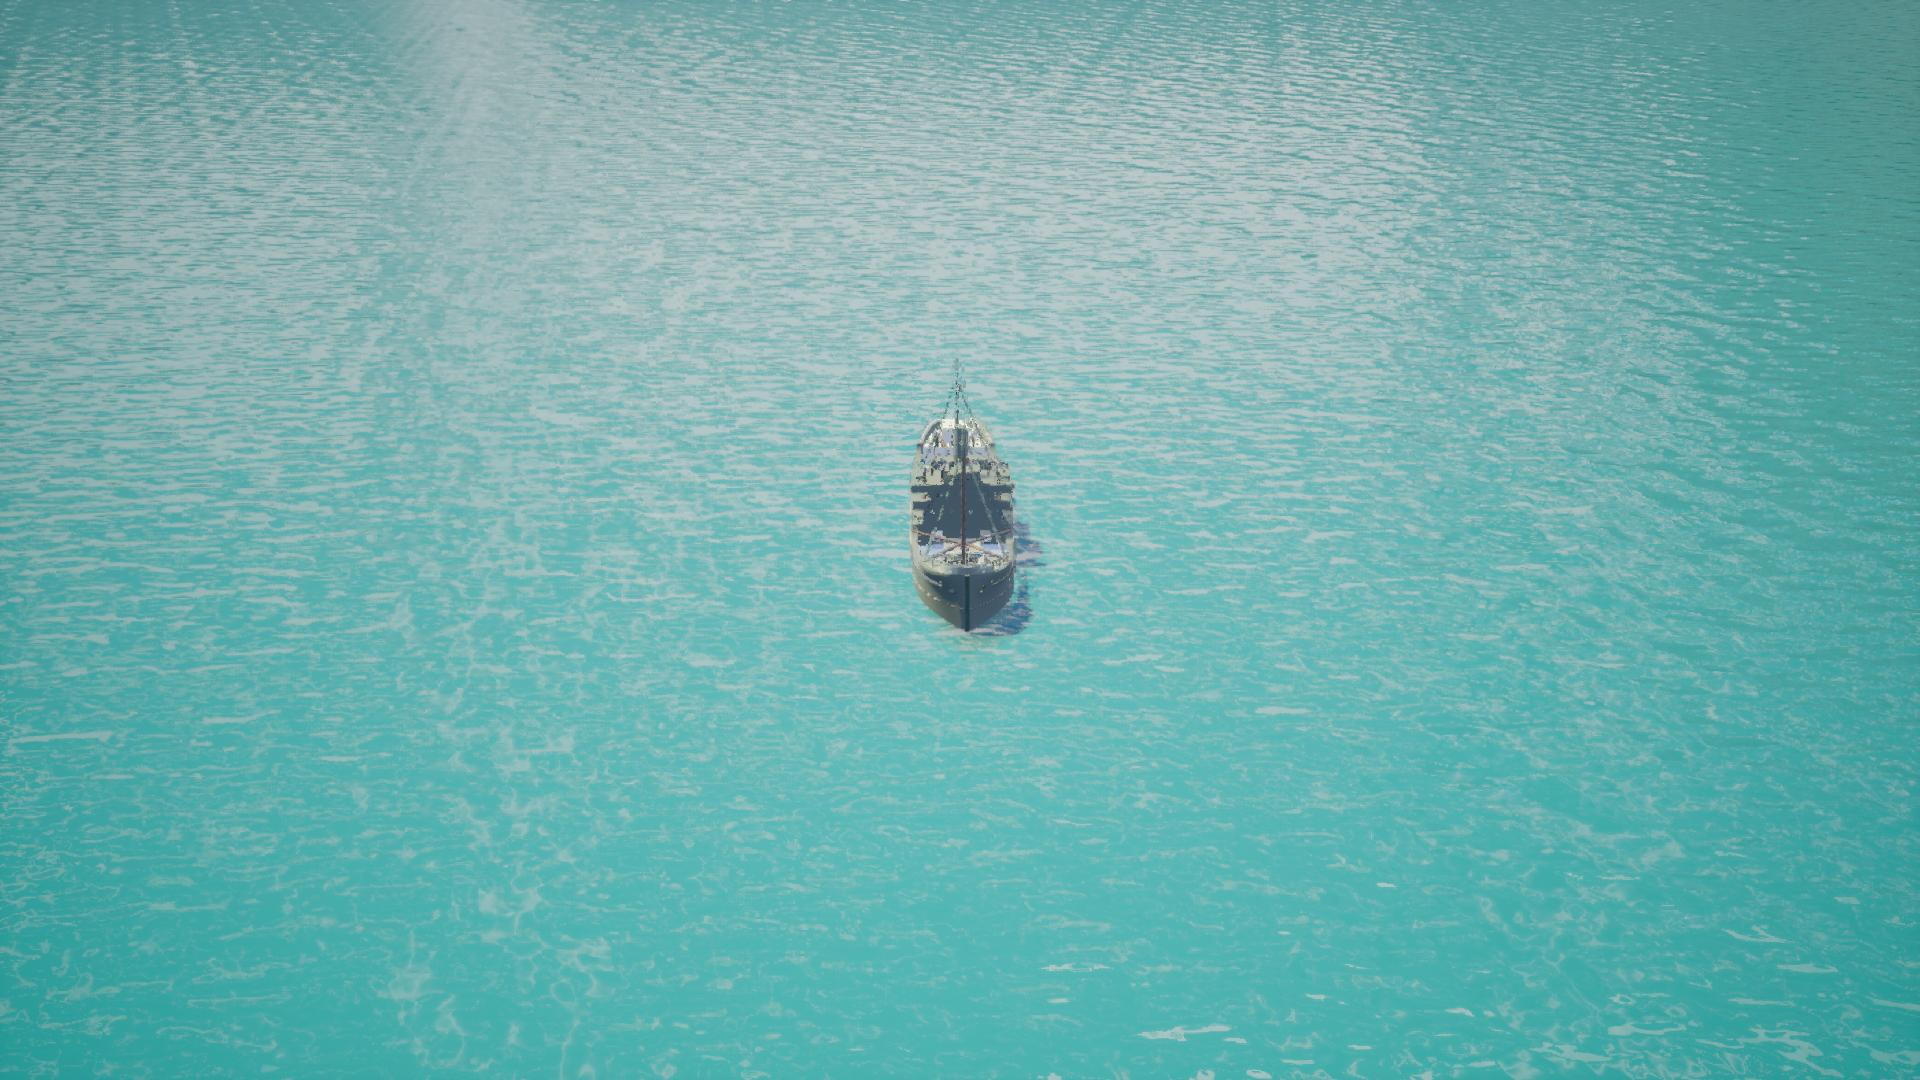Fishing Boat: (907, 364, 1034, 638)
